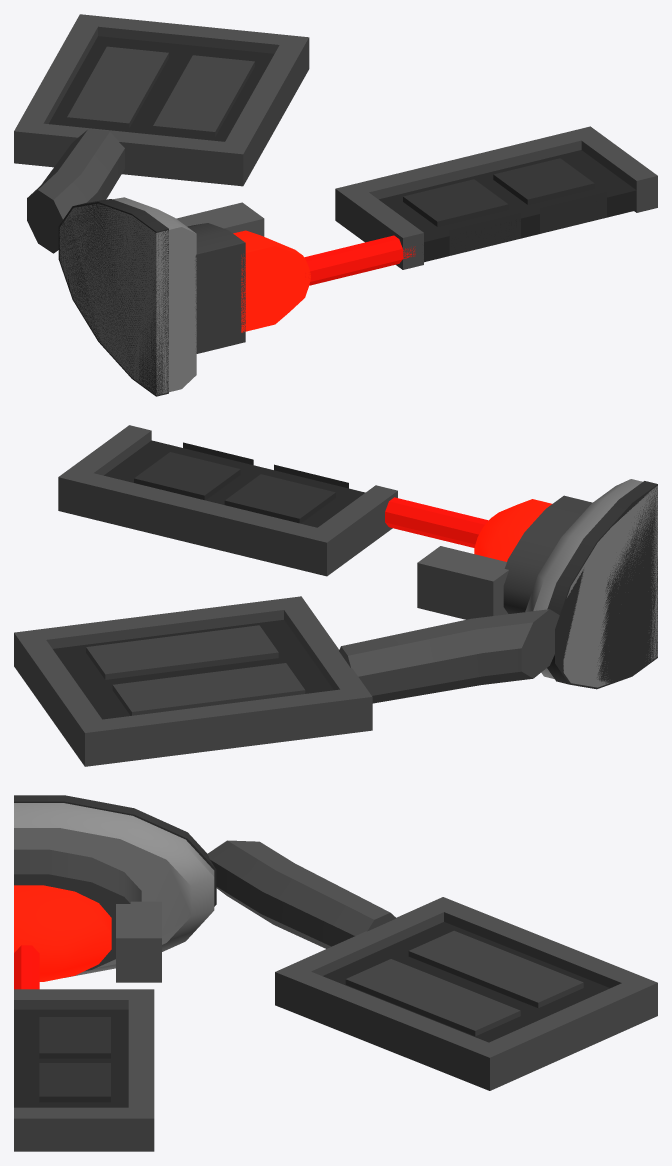
Rendered from newshl-9.glb.
3 renders of one model, top to bottom at view 1: azimuth 30°, elevation 25°; view 2: azimuth 150°, elevation 25°; view 3: azimuth 270°, elevation 25°, orthographic. The views are drawn at different scales.
Visible parts, largest first — view 1: newshl-9; view 2: newshl-9; view 3: newshl-9.
Part boxes in pixels (left/top/right/bottom): newshl-9: left=14, top=14, right=657, bottom=396; newshl-9: left=14, top=425, right=657, bottom=766; newshl-9: left=14, top=795, right=657, bottom=1151.
Bounding box in the file's own units: 1.97 × 0.6179 × 2.11.
